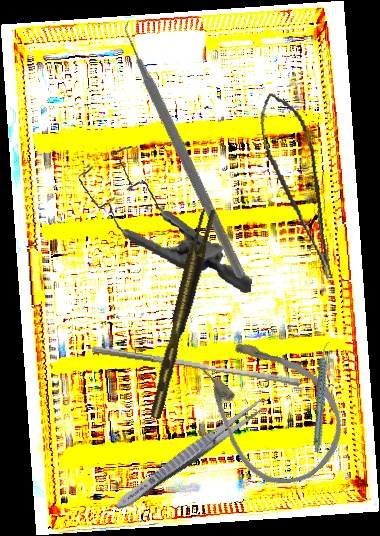Cannula: (173, 309, 366, 506)
Chopper: (43, 8, 334, 280)
Dressing Forceps: (112, 393, 270, 515)
Handpiece: (291, 340, 354, 454)
Micro Scissor: (252, 86, 340, 287)
Pusher: (90, 345, 302, 387)
Speculum: (67, 140, 267, 294)
Tissue Forceps: (138, 206, 224, 420)
